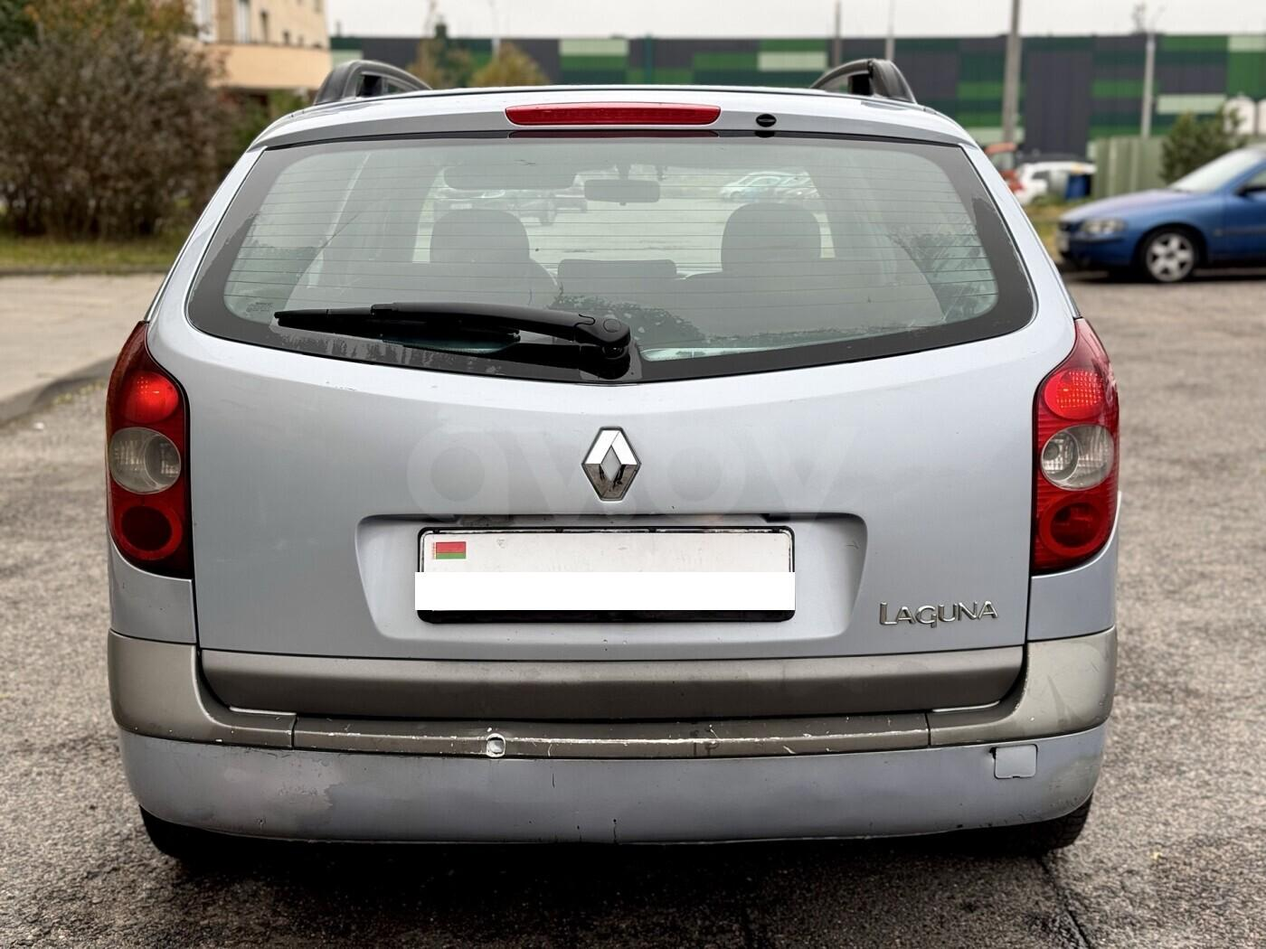Laguna_2001-2005: (105, 60, 1122, 864)
